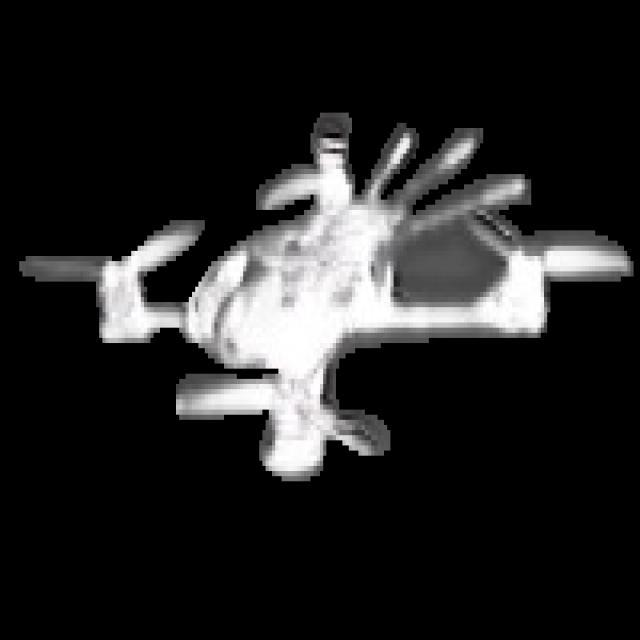drone: (23, 109, 640, 502)
